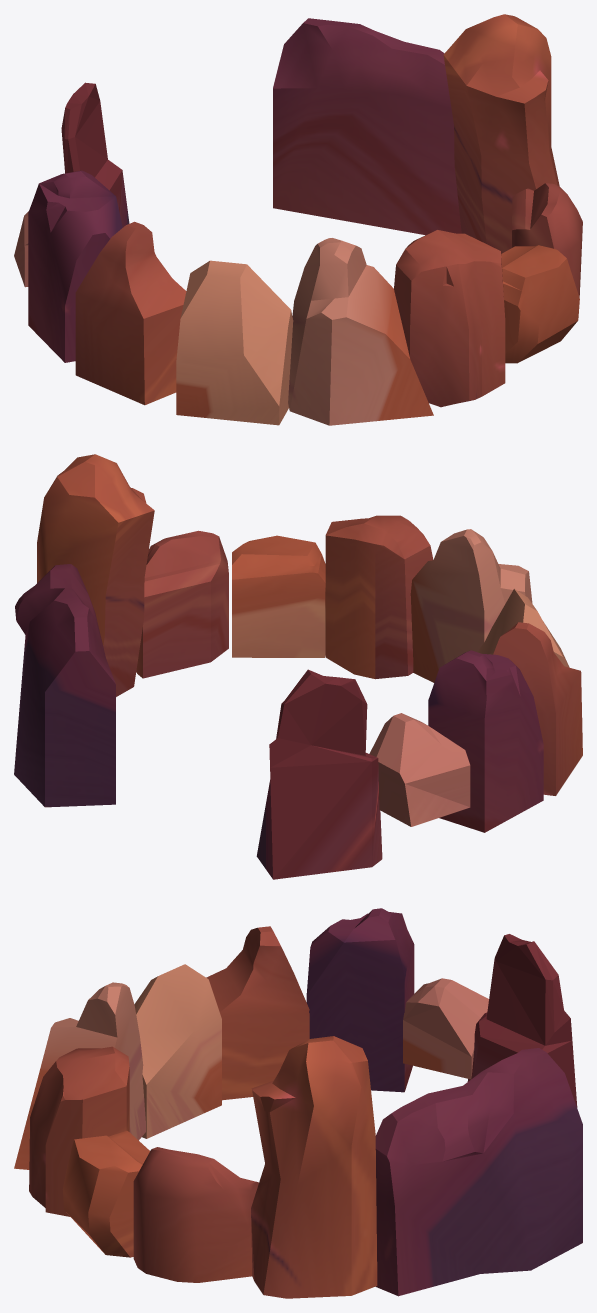
The model's file is SM_SurroundingStones.fbx.
The picture shows the model from 3 angles, top to bottom: view 1: azimuth 30°, elevation 25°; view 2: azimuth 150°, elevation 25°; view 3: azimuth 270°, elevation 25°; orthographic projection. The views are drawn at different scales.
Visible parts, largest first — view 1: Cube.006; view 2: Cube.006; view 3: Cube.006.
Part boxes in pixels (x1,y1,x2,y2): Cube.006: [14, 14, 582, 425]; Cube.006: [14, 454, 582, 879]; Cube.006: [14, 908, 582, 1298].
Size of the model in its own units: 742 by 364 by 717.
